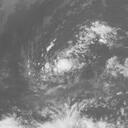cyclone: (42, 45, 87, 80)
